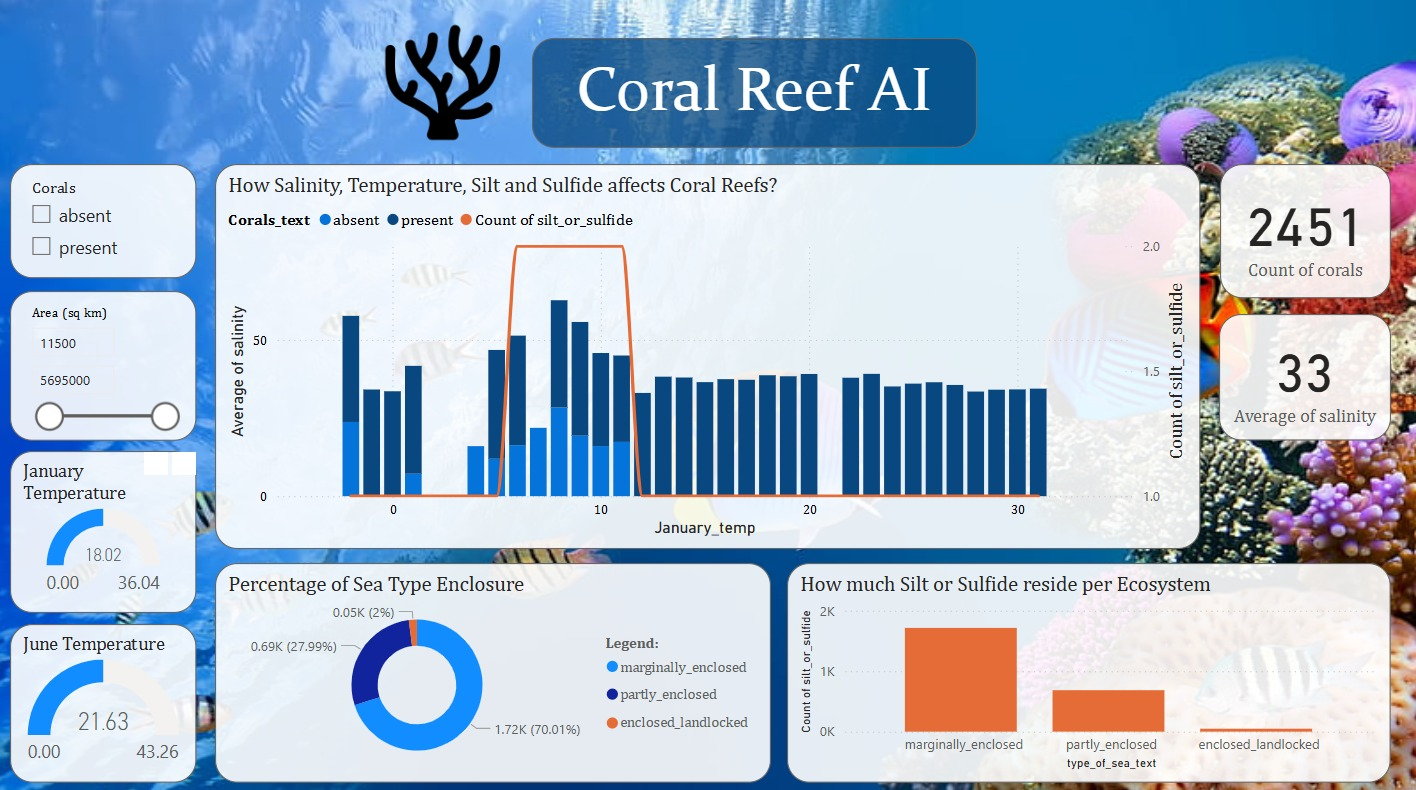

The dashboard page shown, as its layout file describes it:
{"tool":"powerbi","page":{"name":"Overview","canvas":[1280,720],"ordinal":0},"visuals":[{"type":"textbox","box":[149,36,401,99],"z":0},{"type":"lineStackedColumnComboChart","title":"How Salinity, Temperature, Silt and Sulfide affects Coral Reefs?","fields":{"Category":["corals_worldwide_dataset_cleaned.January_temp"],"Y":["Avg(corals_worldwide_dataset_cleaned.salinity)"],"Y2":["Avg(corals_worldwide_dataset_cleaned.silt_or_sulfide)"],"Series":["corals_worldwide_dataset_cleaned.Corals_text"]},"box":[213,150,888,347],"z":2000},{"type":"donutChart","title":"Percentage of Sea Type Enclosure","fields":{"Y":["Avg(corals_worldwide_dataset_cleaned.type_of_sea)"],"Category":["corals_worldwide_dataset_cleaned.type_of_sea_text"]},"box":[160,509,501,198],"z":3000},{"type":"slicer","fields":{"Values":["corals_worldwide_dataset_cleaned.Corals_text"]},"box":[1121,185,139,103],"z":5000},{"type":"slicer","fields":{"Values":["corals_worldwide_dataset_cleaned.silk_or_sulfide_text"]},"box":[1113,305,159,124],"z":6000},{"type":"card","fields":{"Values":["Sum(corals_worldwide_dataset_cleaned.corals)"]},"box":[1082,17,178,118],"z":7000},{"type":"gauge","title":" January Temperature","fields":{"Y":["Avg(corals_worldwide_dataset_cleaned.January_temp)"]},"box":[20,185,176,144],"z":8000},{"type":"gauge","title":"June Temperature","fields":{"Y":["Avg(corals_worldwide_dataset_cleaned.June_temp)"]},"box":[20,349,176,136],"z":9000},{"type":"card","fields":{"Values":["Avg(corals_worldwide_dataset_cleaned.salinity)"]},"box":[900,18,172,117],"z":10000},{"type":"columnChart","title":"How much Silt or Sulfide reside per Ecosystem","fields":{"Category":["corals_worldwide_dataset_cleaned.type_of_sea_text"],"Y":["Avg(corals_worldwide_dataset_cleaned.silt_or_sulfide)"]},"box":[675,509,510,198],"z":11000},{"type":"image","box":[0,17,160,118],"z":11001}]}

Visuals, with their boxes in screenshot pixels (x1, y1, x2, y2), scaled from the page's 1280x720 canvas onto the 1416x790 screenshot:
textbox: (165, 40, 608, 148)
"How Salinity, Temperature, Silt and Sulfide affects Coral Reefs?" lineStackedColumnComboChart: (236, 165, 1218, 545)
"Percentage of Sea Type Enclosure" donutChart: (177, 558, 731, 776)
slicer - corals_worldwide_dataset_cleaned.Corals_text: (1240, 203, 1394, 316)
slicer - corals_worldwide_dataset_cleaned.silk_or_sulfide_text: (1231, 335, 1407, 471)
card - Sum(corals_worldwide_dataset_cleaned.corals): (1197, 19, 1394, 148)
" January Temperature" gauge: (22, 203, 217, 361)
"June Temperature" gauge: (22, 383, 217, 532)
card - Avg(corals_worldwide_dataset_cleaned.salinity): (996, 20, 1186, 148)
"How much Silt or Sulfide reside per Ecosystem" columnChart: (747, 558, 1311, 776)
image: (0, 19, 177, 148)
